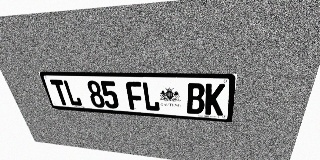5: (100, 81, 120, 109)
8: (86, 80, 106, 108)
B: (186, 83, 205, 114)
F: (125, 81, 145, 111)
K: (205, 83, 225, 116)
L: (141, 82, 160, 112), (62, 80, 83, 106)
T: (50, 80, 70, 106)
